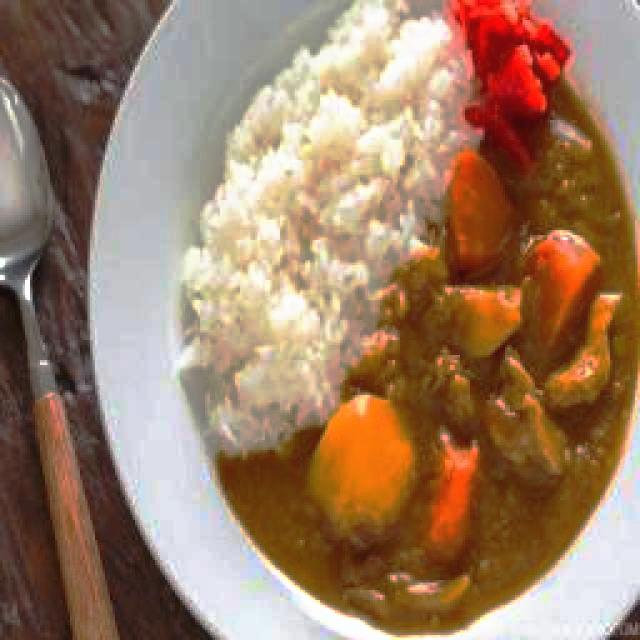curry: (283, 298, 604, 620), (452, 148, 640, 516)
rice: (182, 88, 364, 444), (275, 2, 442, 209)
